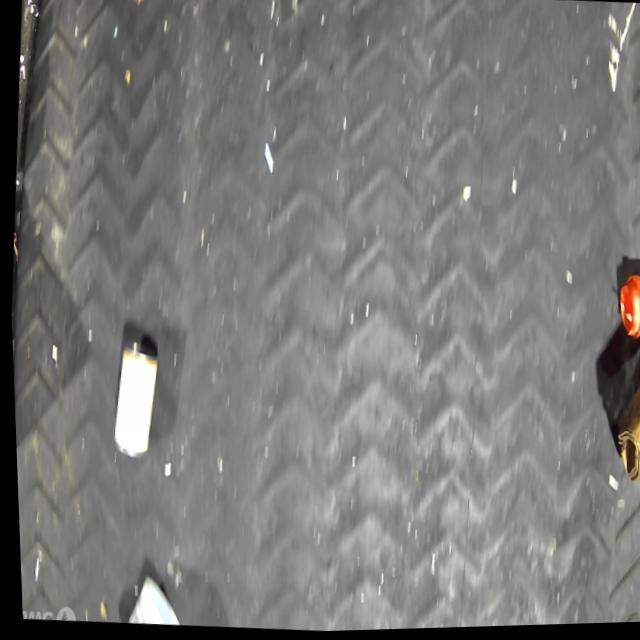can: (104, 341, 159, 465), (108, 0, 167, 10)
